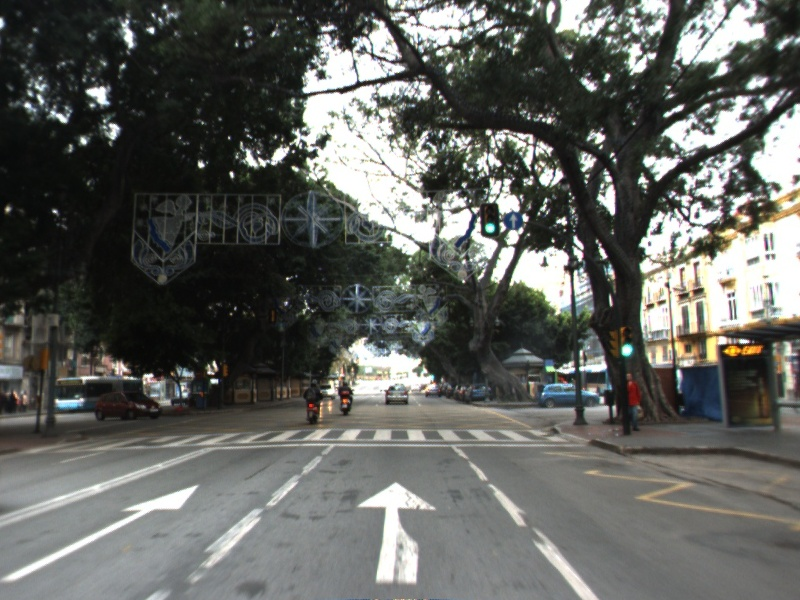STRAIGHT: (1, 481, 202, 584), (355, 480, 440, 586)
